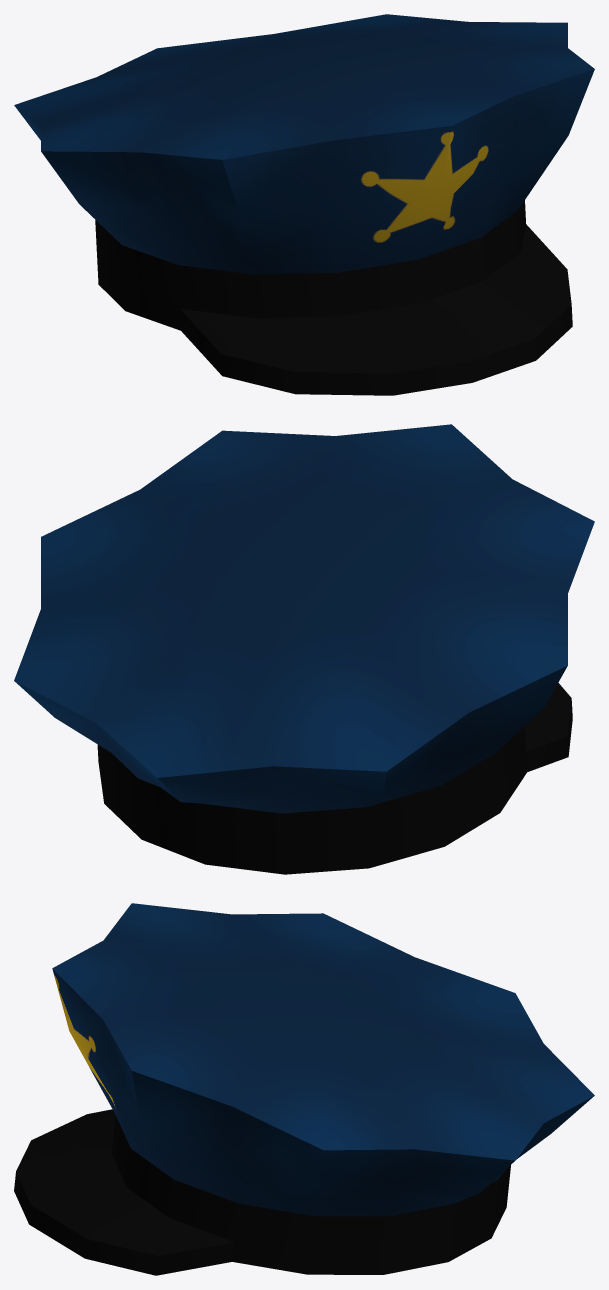
The model's file is m_PoliceHat01.obj.
3 views of the same model, one above another, from view 1: azimuth 30°, elevation 25°; view 2: azimuth 150°, elevation 25°; view 3: azimuth 270°, elevation 25° (orthographic). The views are drawn at different scales.
Visible parts, largest first — view 1: m_PoliceHat01_mi_PoliceHat; view 2: m_PoliceHat01_mi_PoliceHat; view 3: m_PoliceHat01_mi_PoliceHat.
Part boxes in pixels (left/top/right/bottom): m_PoliceHat01_mi_PoliceHat: left=14, top=14, right=594, bottom=395; m_PoliceHat01_mi_PoliceHat: left=14, top=424, right=594, bottom=874; m_PoliceHat01_mi_PoliceHat: left=14, top=903, right=594, bottom=1275.
Size of the model in its own units: 0.6522 by 0.3071 by 0.676.
Materials: 1 (1 with a texture image).
